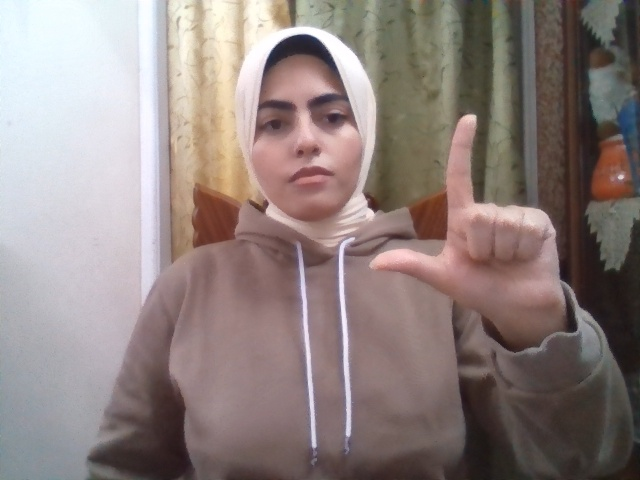L: (369, 114, 562, 320)
